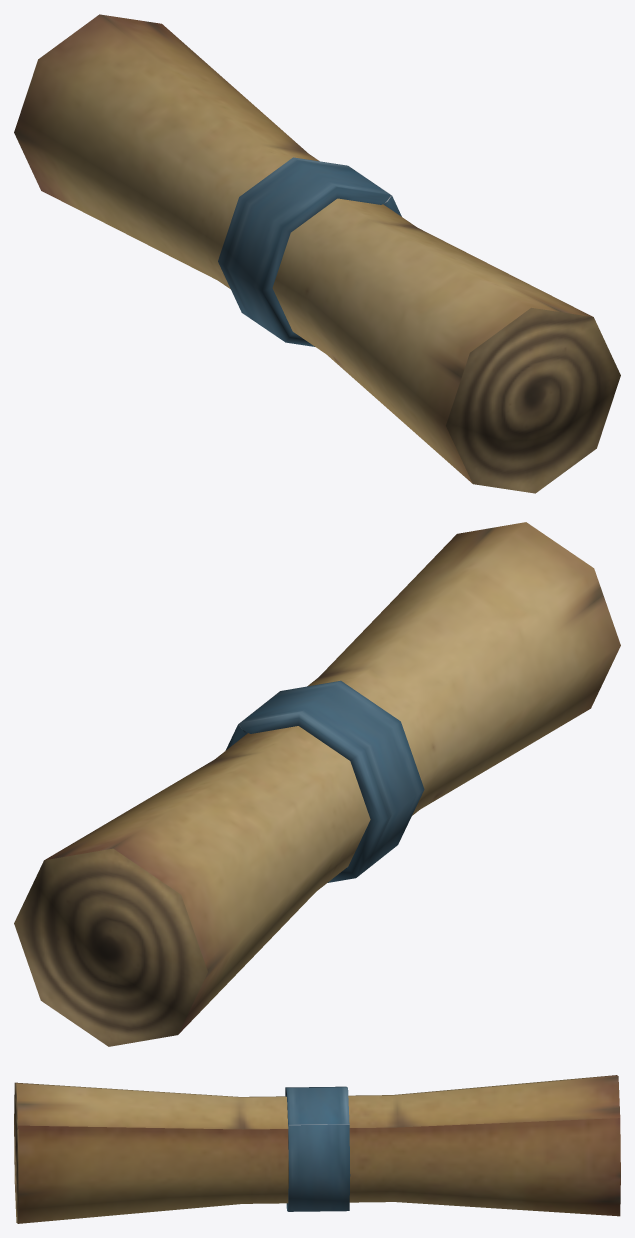
Rendered from roll_002.fbx.
3 renders of one model, top to bottom at view 1: azimuth 30°, elevation 25°; view 2: azimuth 150°, elevation 25°; view 3: azimuth 270°, elevation 25°, orthographic. The views are drawn at different scales.
Visible parts, largest first — view 1: roll; view 2: roll; view 3: roll.
Boxes of the visible parts, x1,y1,x2,y2 form: roll: (14, 14, 620, 493); roll: (14, 522, 620, 1046); roll: (14, 1075, 620, 1223).
Bounding box in the file's own units: 7.28 × 6.5 × 25.89.
